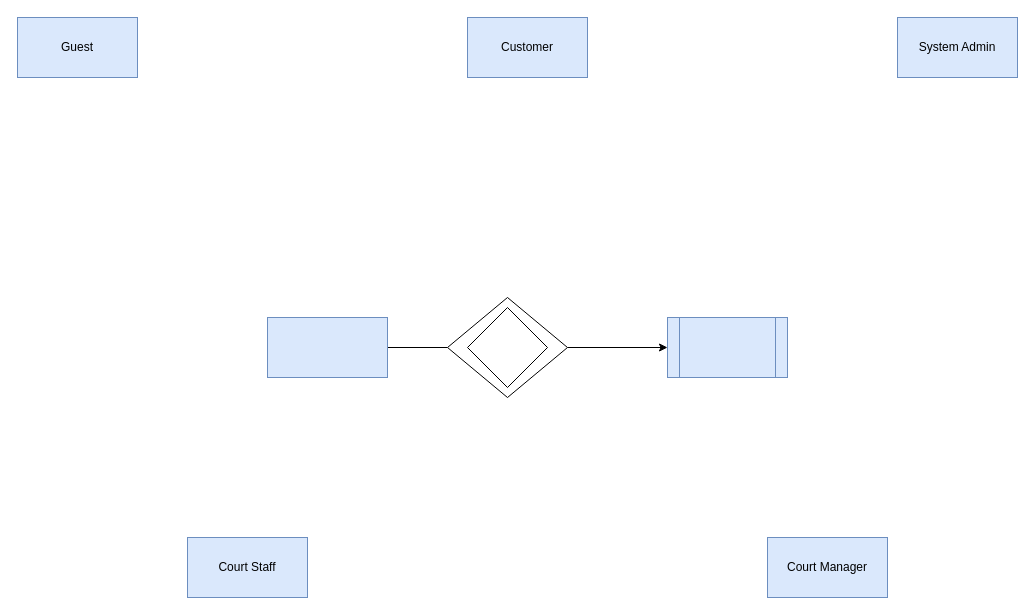
The diagram is 1035 pixels wide and 615 high, and some of its shapes have lost their labels. Here are the shapes that lost their labels. From the top down, the centre of each, then its label:
point 327,347: Court
point 507,347: Include
point 727,347: Play_Area
